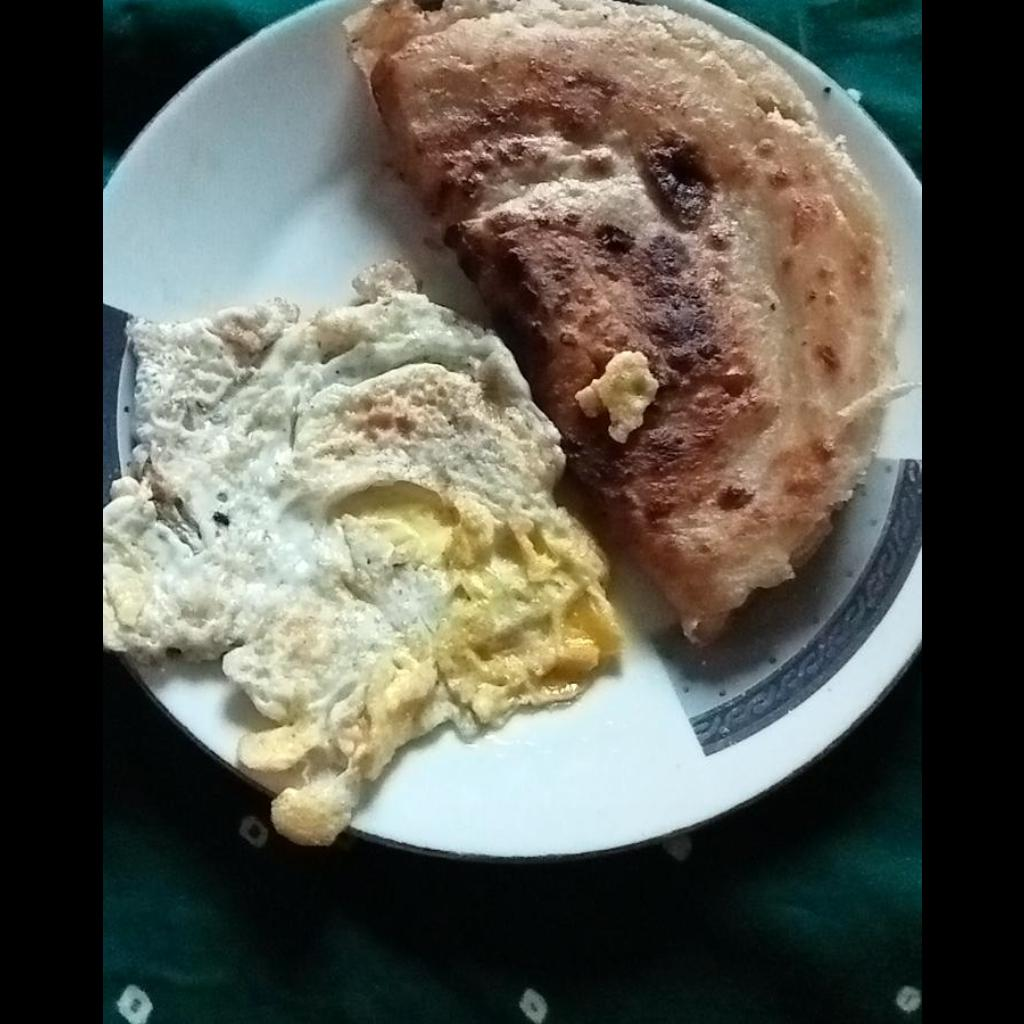egg-poached: (103, 264, 625, 845)
ruti: (330, 1, 915, 644)
